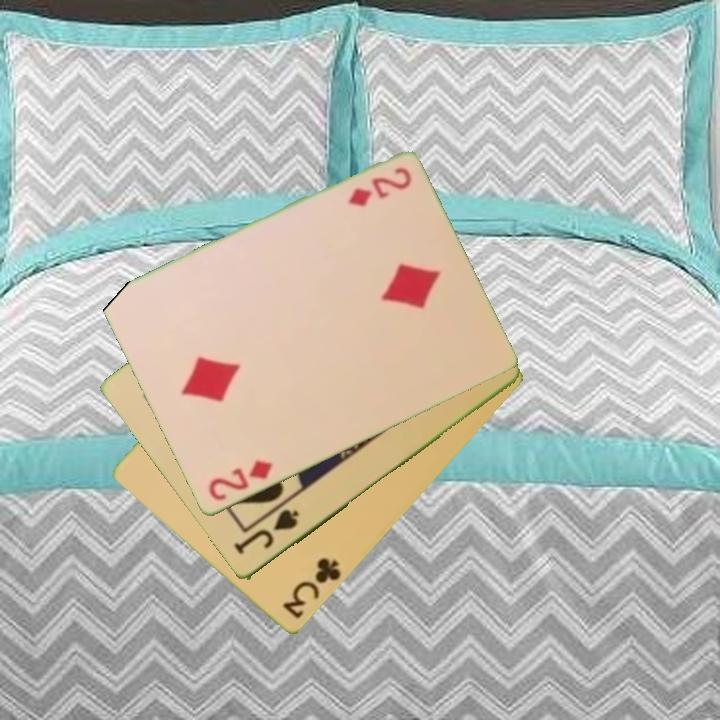2d: (204, 457, 275, 505), (344, 164, 415, 210)
3c: (279, 554, 344, 623)
Js: (231, 506, 302, 558)
